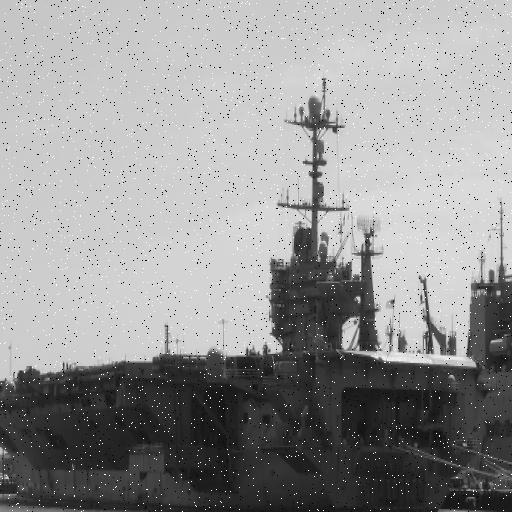Portanaves: (1, 72, 478, 512)
